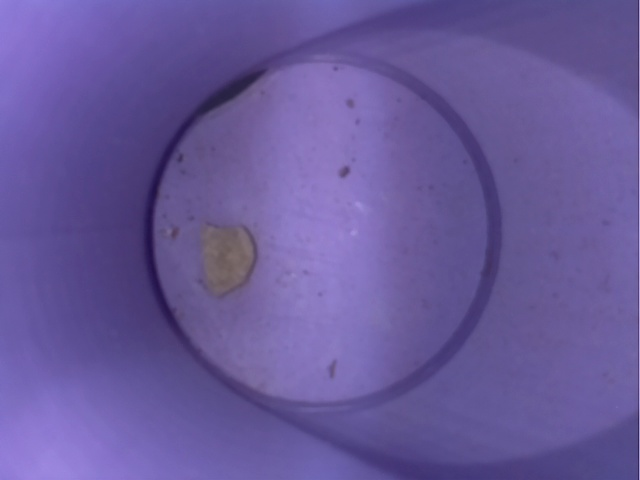caillou: (179, 205, 266, 305)
